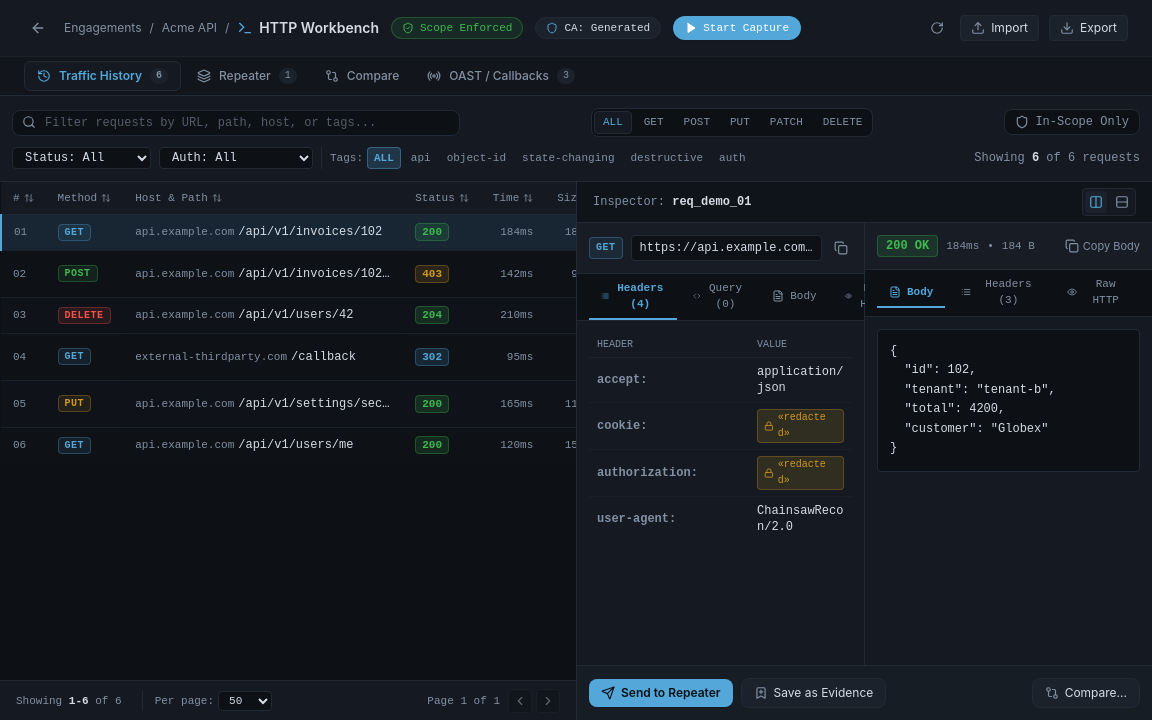
WorkbenchPage (Milestone 3: Native HTTP Workbench) Tests › filters traffic history by search keywords and HTTP method
Later steps or results of the test are not shown.
Expected: the text "/api/v1/invoices/102" is shown, x1=238 y1=225 x2=382 y2=239
// Filter by Method POST
Click the button "POST": (697,122) x1=676 y1=112 x2=718 y2=132
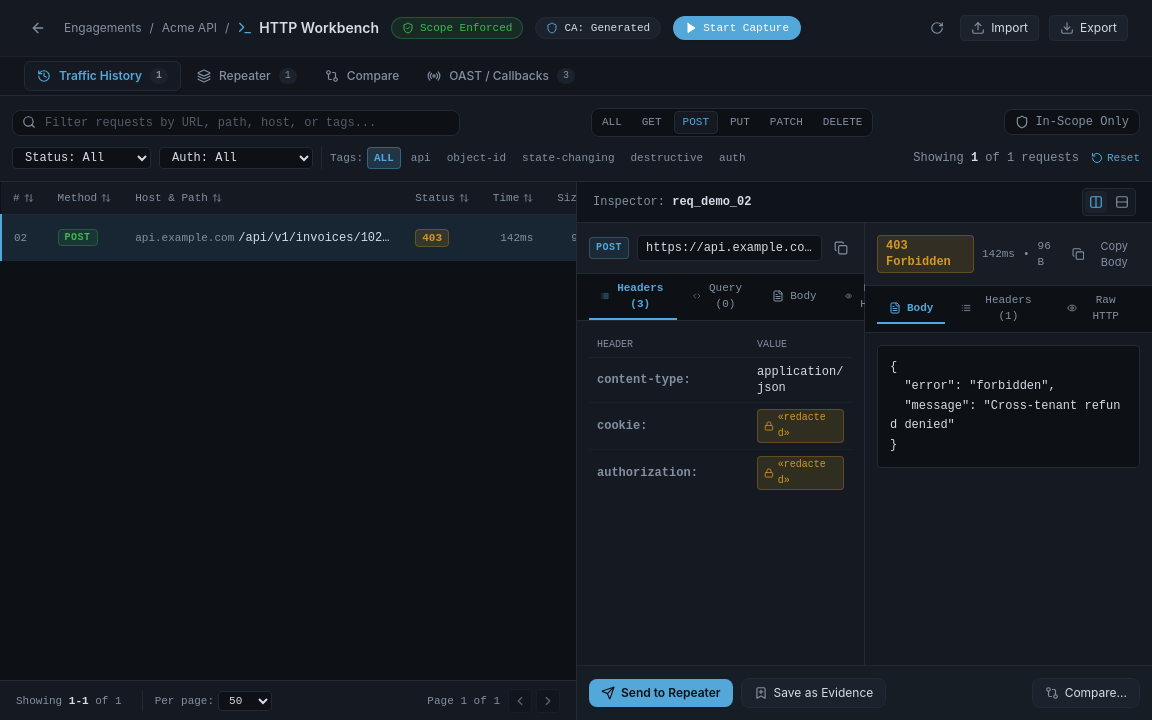
Expected: the text "/api/v1/invoices/102/refund" is shown, x1=238 y1=230 x2=403 y2=244
Result: the text "/api/v1/users/42" is gone
